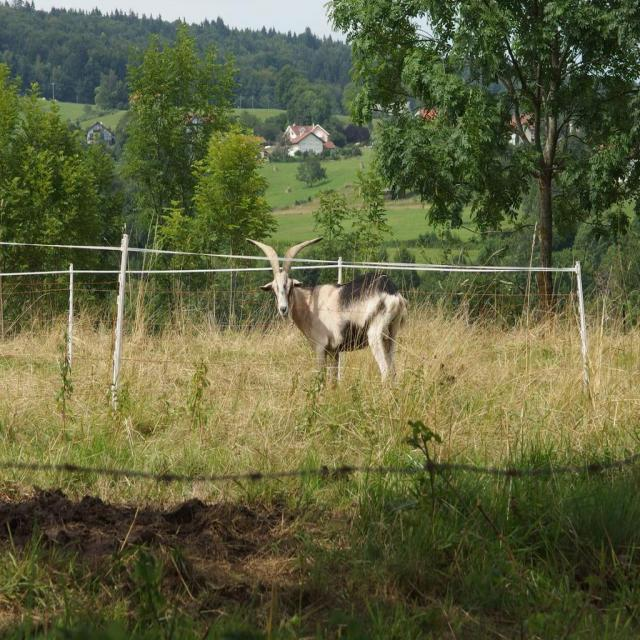Deer: (245, 238, 407, 389)
